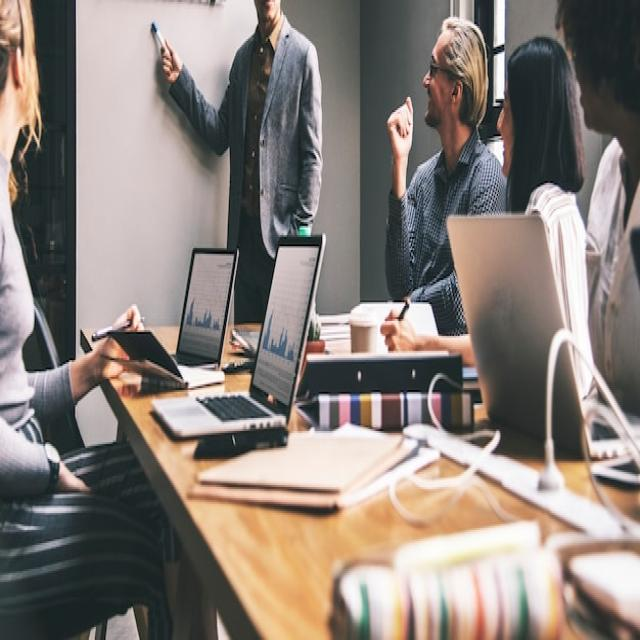adult: (150, 0, 324, 310), (386, 17, 509, 353), (498, 37, 592, 428)
